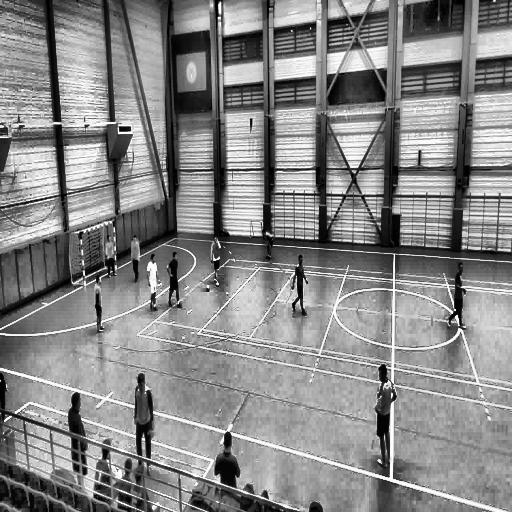ball: (206, 285, 209, 291)
player: (372, 362, 396, 468), (68, 390, 88, 488), (136, 374, 154, 472), (448, 262, 466, 330), (290, 254, 308, 315), (166, 250, 180, 308), (211, 235, 224, 288), (147, 253, 158, 311), (94, 276, 104, 334), (105, 235, 116, 278), (131, 235, 140, 283), (262, 228, 274, 260)
